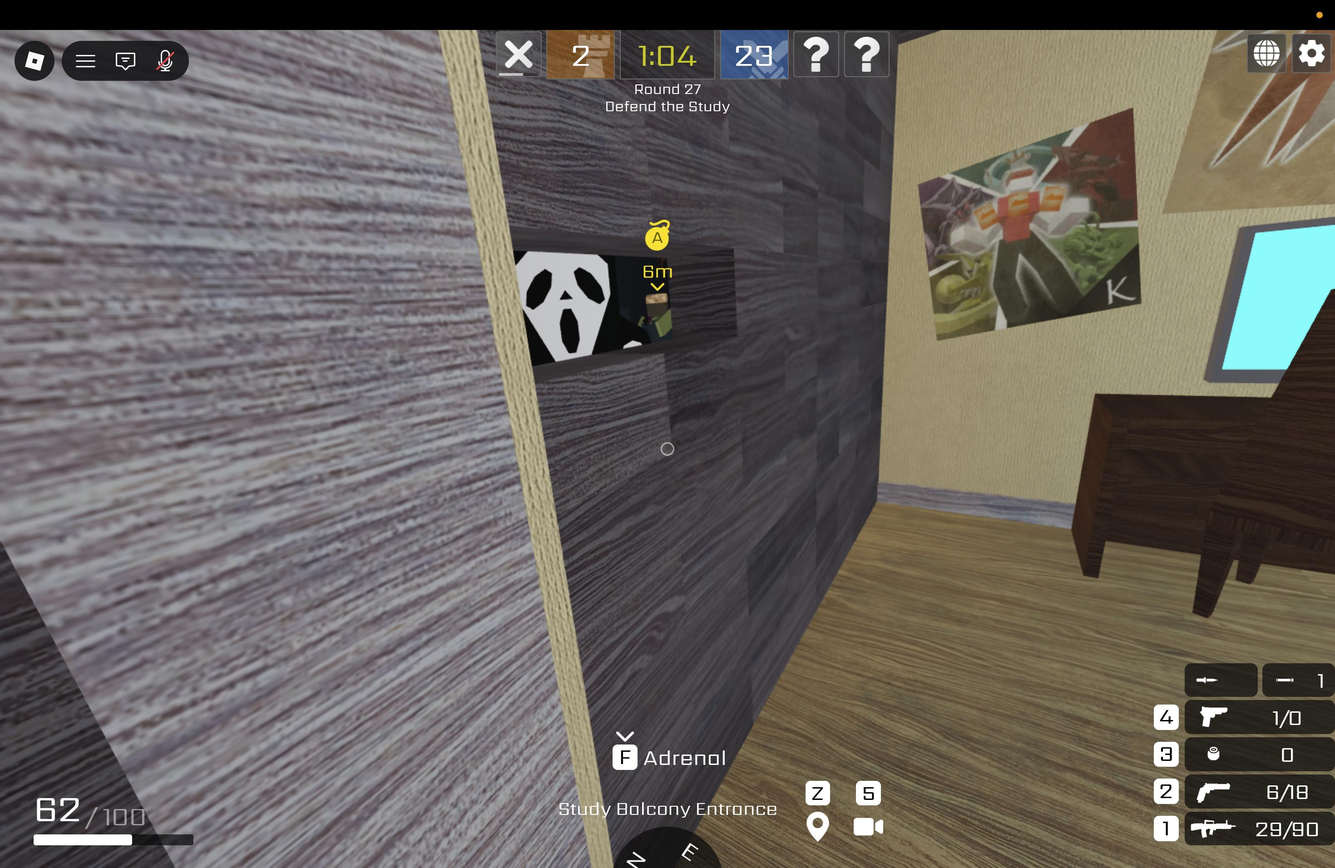enemy: (496, 233, 657, 375), (634, 288, 680, 344)
